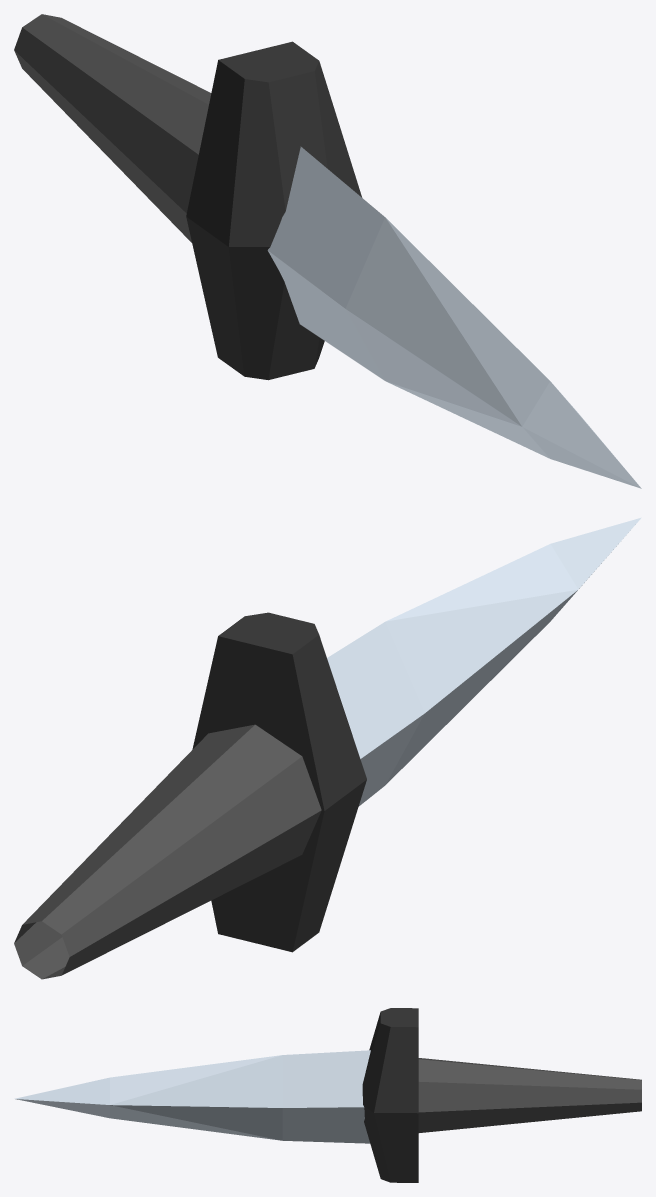
The model's file is FlyingDagger.fbx.
3 renders of one model, top to bottom at view 1: azimuth 30°, elevation 25°; view 2: azimuth 150°, elevation 25°; view 3: azimuth 270°, elevation 25°, orthographic. The views are drawn at different scales.
Parts seen in each view (by area): view 1: FlyingDagger; view 2: FlyingDagger; view 3: FlyingDagger.
Boxes of the visible parts, x1,y1,x2,y2 form: FlyingDagger: (14, 14, 641, 488); FlyingDagger: (14, 517, 641, 979); FlyingDagger: (14, 1008, 641, 1182).
Bounding box in the file's own units: 14.47 × 29.82 × 109.
